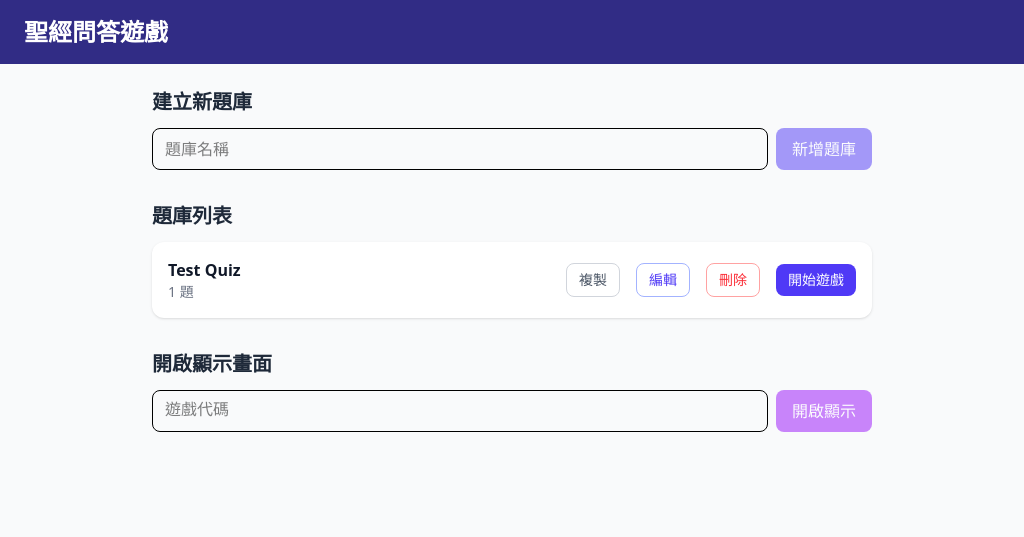
Scenario: HomePage › clicking 複製 adds duplicated quiz to list
Expected: the heading "Test Quiz" is shown, x1=168 y1=259 x2=241 y2=281
Click the button with aria-label "複製題庫": (593, 280) x1=566 y1=263 x2=620 y2=297
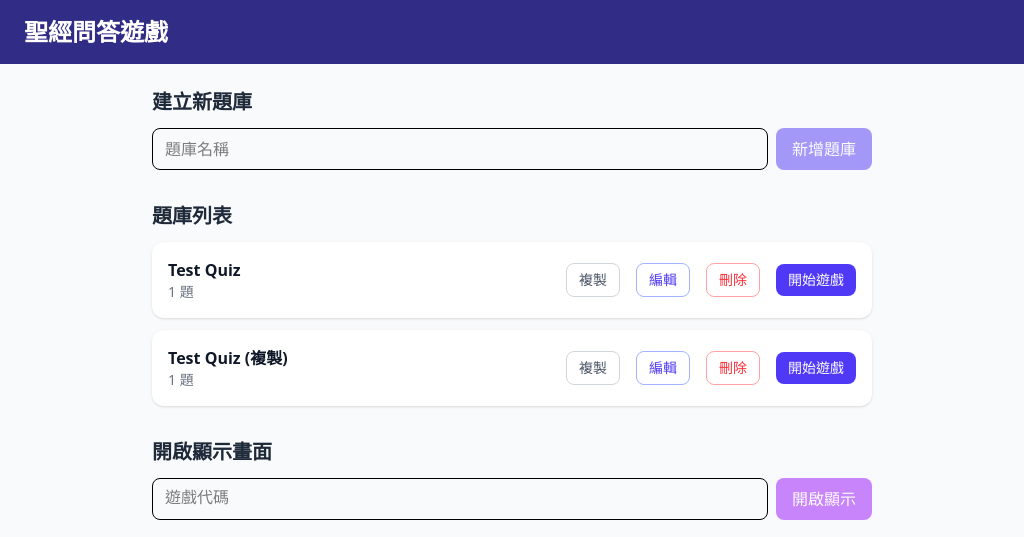
Expected: the heading "Test Quiz (複製)" is shown, x1=168 y1=347 x2=288 y2=369
